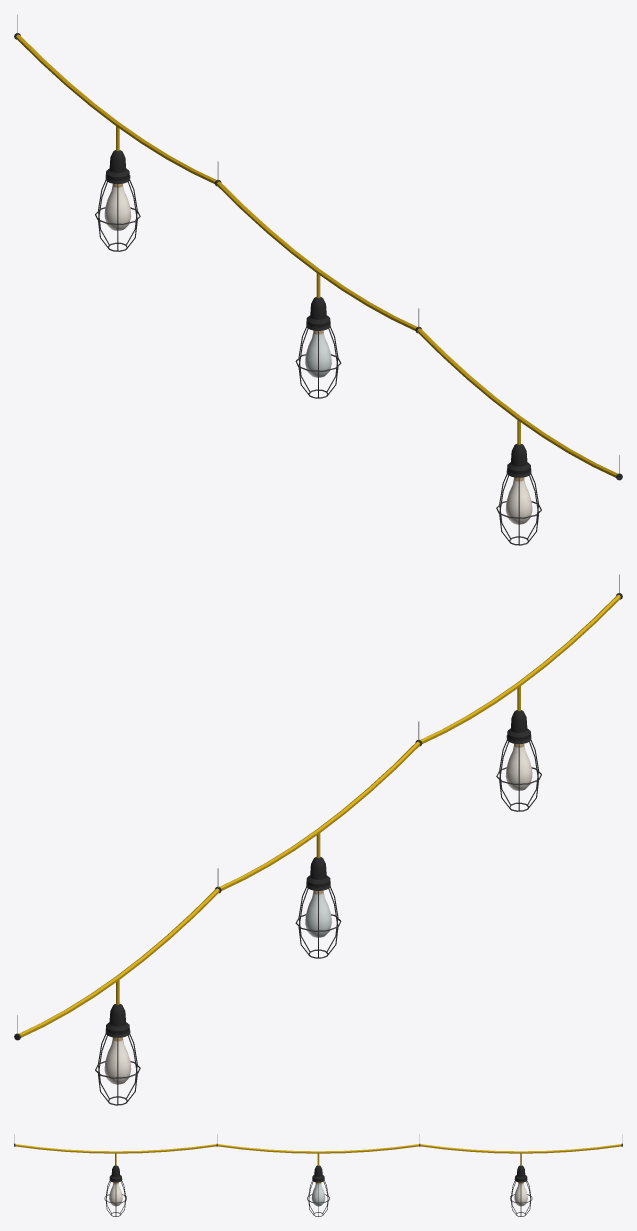
File: Kit_TempLightString_OneOut.fbx
3 renders of one model, top to bottom at view 1: azimuth 30°, elevation 25°; view 2: azimuth 150°, elevation 25°; view 3: azimuth 270°, elevation 25°, orthographic. The views are drawn at different scales.
Parts seen in each view (by area): view 1: Kit_TempLightString_OneOut_LOD0; view 2: Kit_TempLightString_OneOut_LOD0; view 3: Kit_TempLightString_OneOut_LOD0.
Boxes of the visible parts, left/top/right/bottom form: Kit_TempLightString_OneOut_LOD0: left=14, top=14, right=622, bottom=545; Kit_TempLightString_OneOut_LOD0: left=14, top=574, right=622, bottom=1105; Kit_TempLightString_OneOut_LOD0: left=14, top=1134, right=622, bottom=1216.
Size of what is drawn, in the model's own units: 0.1153 by 0.439 by 3.01.
